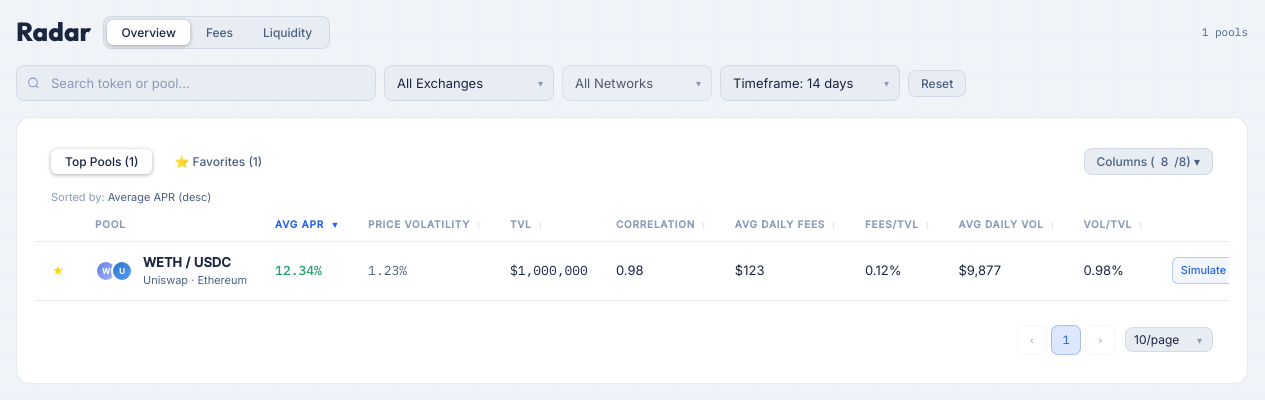
Test case: DiscoverPage favorites integration › removes an unfavorited item immediately from the favorites tab and updates the counter
This screenshot has width=1265, height=400.
Check: the text "WETH / USDC" is shown, box [143,254,231,270]
Click the button "⭐ Favorites (1)". click: (218, 162)
box: [160,149,276,174]
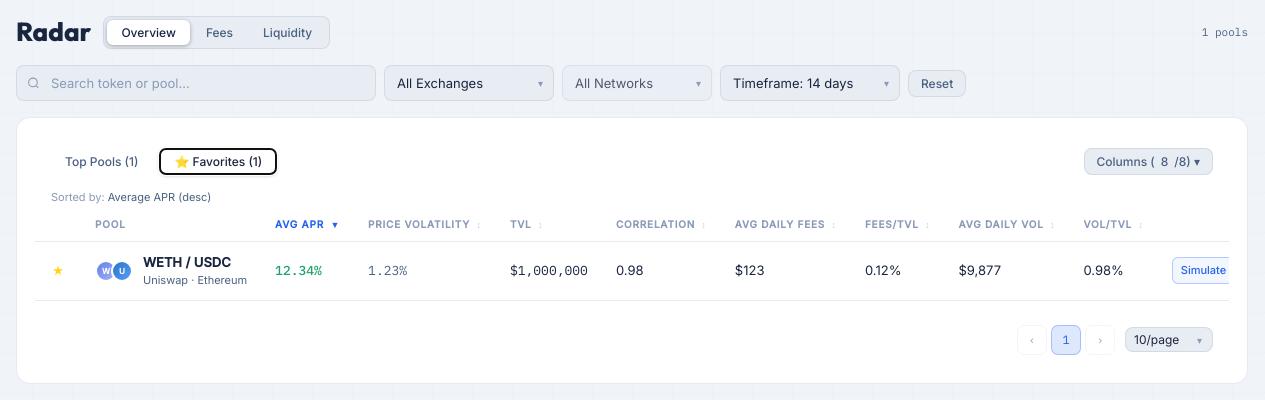
Click the button named "remove from favorites". click: (58, 270)
box: [49,261,67,279]
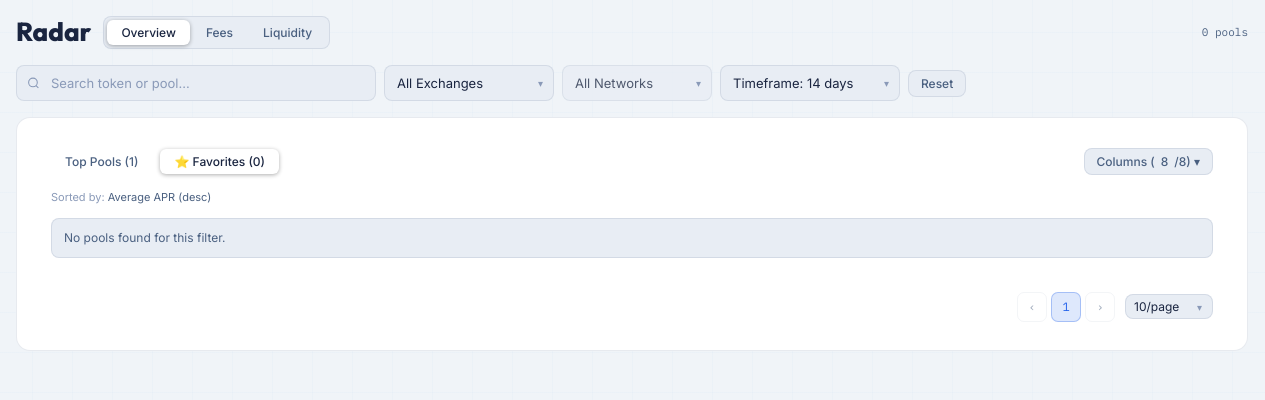
Check: the text "WETH / USDC" is gone
Check: the text "No pools found for this filter." is shown, box [51,218,1213,258]
Check: the button "⭐ Favorites (0)" is shown, box [160,149,279,174]
